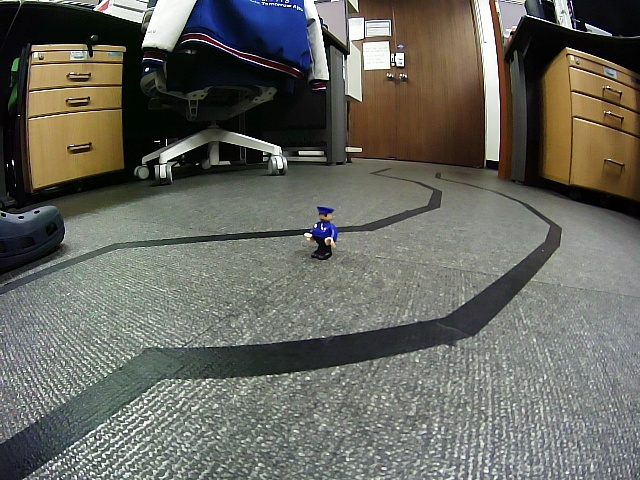person: (304, 206, 337, 261)
